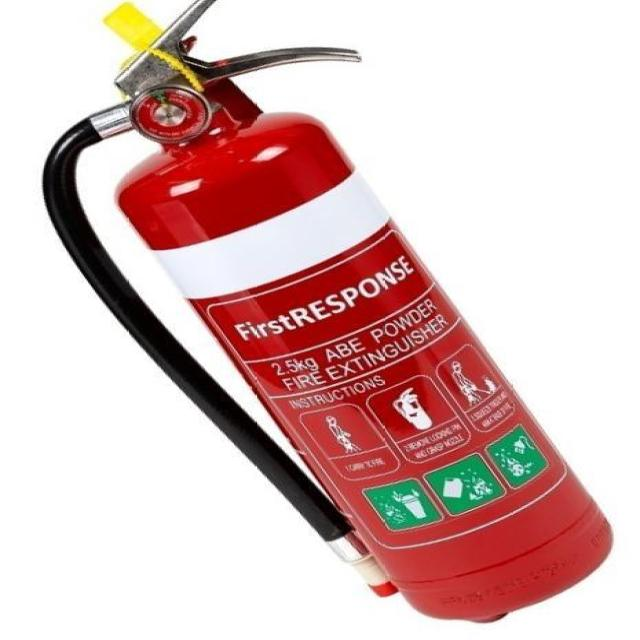fire_extinguisher: (30, 0, 620, 624)
